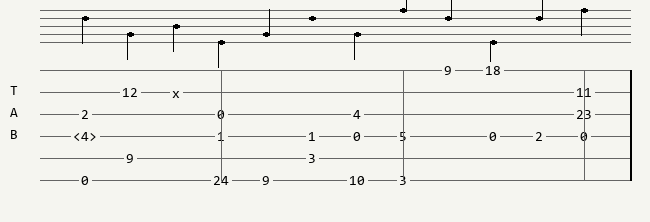0: (81, 174, 93, 187), (217, 108, 229, 121), (353, 130, 365, 143), (489, 130, 501, 143), (580, 130, 592, 143)
1: (217, 130, 229, 143), (308, 130, 320, 143)
10: (349, 174, 369, 187)
11: (576, 86, 596, 99)
12: (122, 86, 142, 99)
18: (485, 64, 505, 77)
2: (81, 108, 93, 121), (535, 130, 547, 143)
23: (576, 108, 596, 121)
24: (213, 174, 233, 187)
3: (308, 152, 320, 165), (399, 174, 411, 187)
4: (353, 108, 365, 121)
5: (399, 130, 411, 143)
9: (126, 152, 138, 165), (262, 174, 274, 187), (444, 64, 456, 77)
harmonic: (73, 130, 101, 143)
x: (172, 87, 184, 98)
